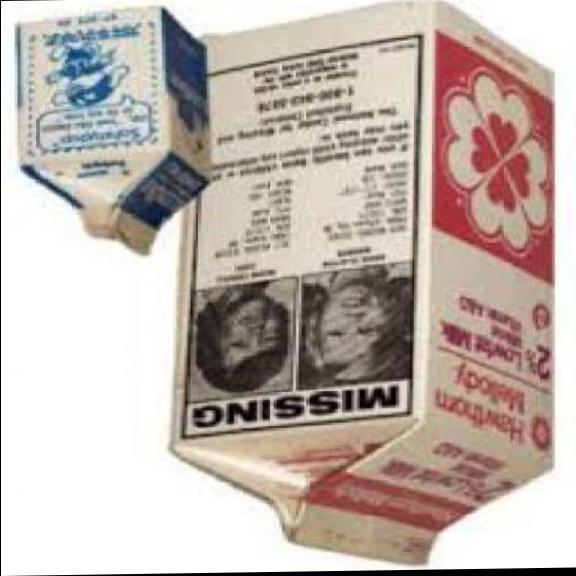Kertas: (18, 8, 213, 261), (17, 8, 209, 253)
